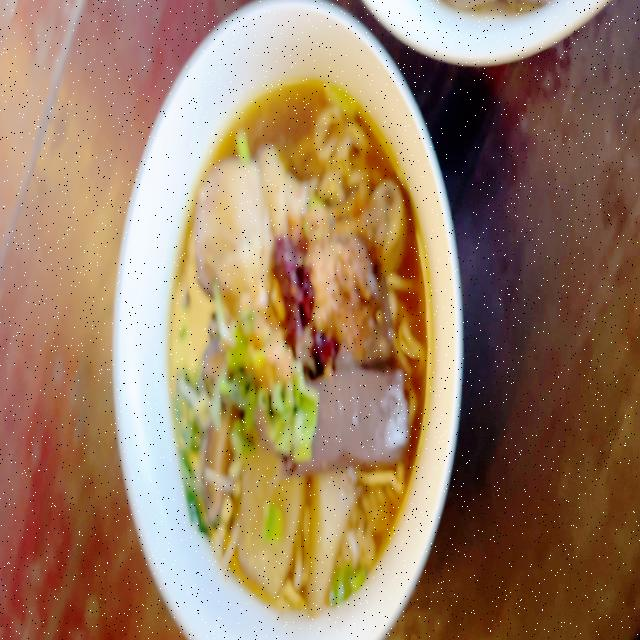boiled_chicken_blood_jelly: (311, 376, 407, 463), (351, 266, 392, 362)
chicken_drumstick: (195, 161, 408, 280)
daikon_radish: (236, 463, 298, 576), (313, 479, 353, 593)
noodle: (172, 80, 427, 594)
